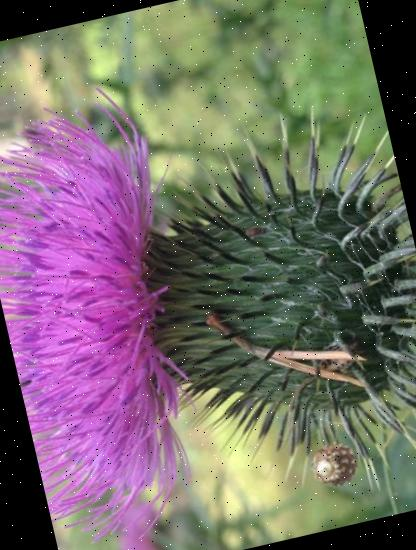Pineapple: (304, 432, 366, 495)
